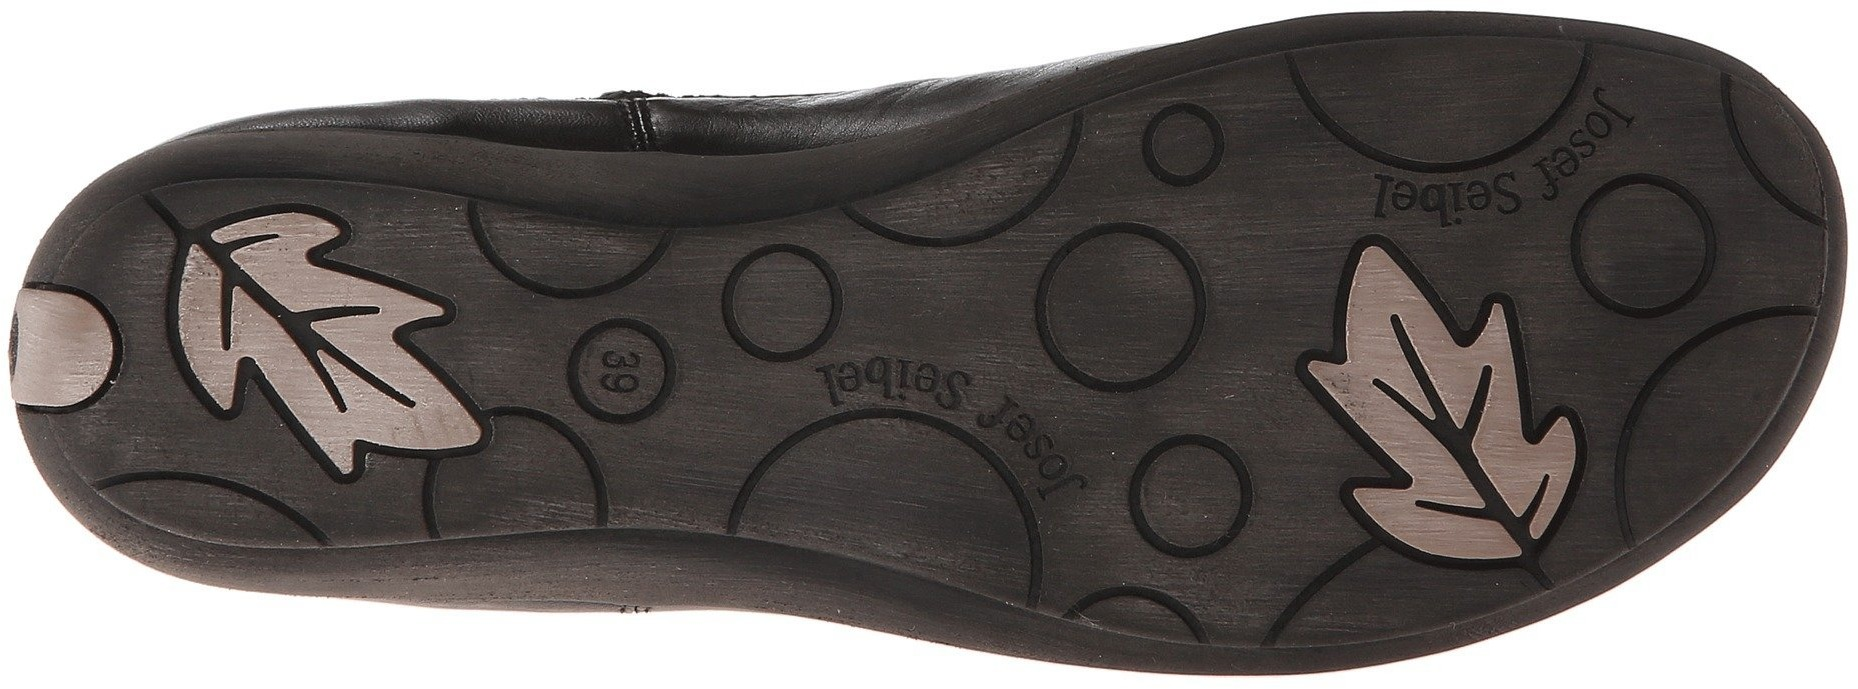chevron: (180, 228, 461, 473), (1314, 315, 1559, 554)
circle: (1005, 149, 1268, 394), (1546, 152, 1748, 355), (1102, 417, 1284, 619), (713, 277, 821, 486), (557, 308, 694, 457), (461, 221, 604, 355), (712, 243, 847, 363), (1010, 416, 1095, 512), (1562, 89, 1635, 184)
line: (180, 228, 461, 473), (1314, 315, 1559, 554)
text: (1348, 113, 1668, 221), (557, 308, 694, 457), (914, 334, 1002, 441), (1010, 416, 1095, 512), (1459, 173, 1540, 273), (1562, 89, 1635, 184), (825, 334, 901, 416), (1379, 168, 1447, 245), (591, 342, 649, 408)
